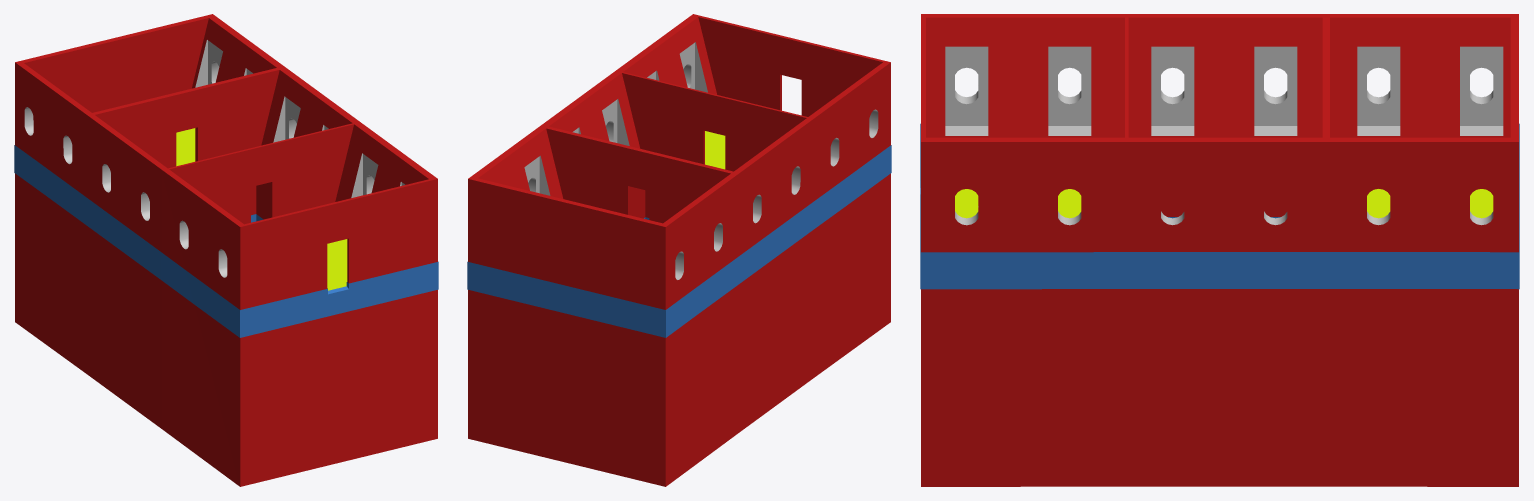
3 renders of one model, left to right at view 1: azimuth 30°, elevation 25°; view 2: azimuth 150°, elevation 25°; view 3: azimuth 270°, elevation 25°, orthographic. The views are drawn at different scales.
Visible parts, largest first — view 1: window_1; view 2: window_1; view 3: window_1.
Part boxes in pixels (x1,y1,x2,y2): window_1: [14, 14, 438, 486]; window_1: [467, 14, 891, 486]; window_1: [920, 14, 1519, 486].
Size of the model in its own units: 9.17 by 11.46 by 18.04.
